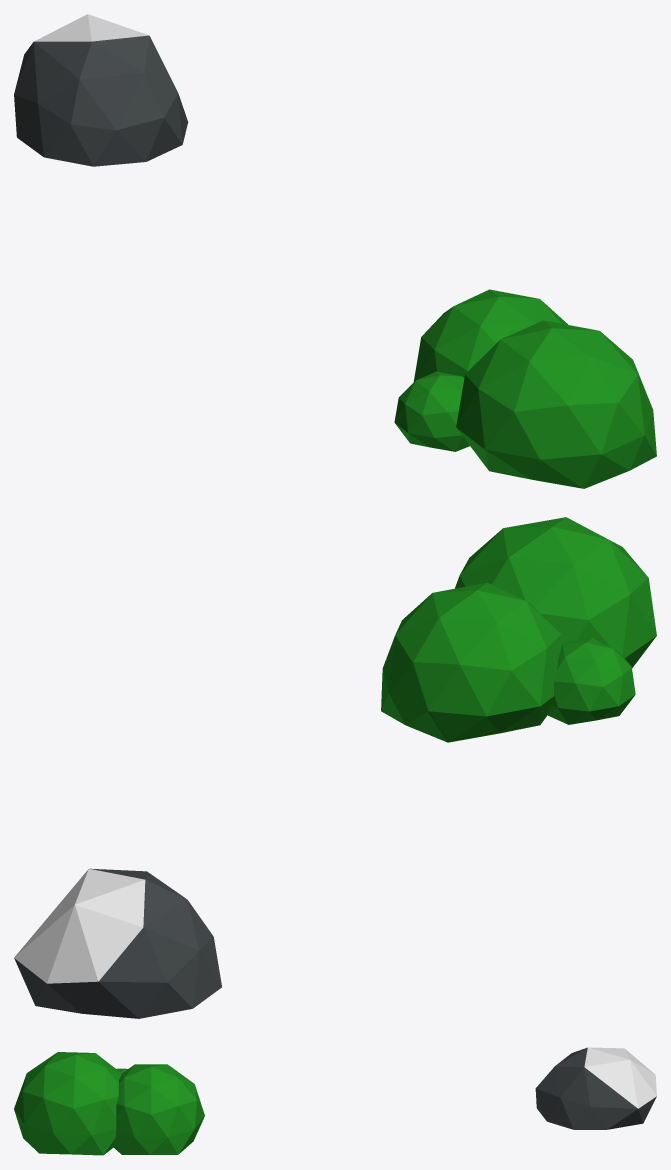
Rendered from bushrock.fbx.
3 renders of one model, top to bottom at view 1: azimuth 30°, elevation 25°; view 2: azimuth 150°, elevation 25°; view 3: azimuth 270°, elevation 25°, orthographic. The views are drawn at different scales.
Parts seen in each view (by area): view 1: Icosphere.001, Icosphere; view 2: Icosphere.001, Icosphere; view 3: Icosphere.001, Icosphere.
Boxes of the visible parts, left/top/right/bottom form: Icosphere.001: left=394, top=289, right=656, bottom=488; Icosphere: left=14, top=14, right=188, bottom=166; Icosphere.001: left=381, top=517, right=656, bottom=742; Icosphere: left=14, top=868, right=221, bottom=1018; Icosphere.001: left=14, top=1052, right=204, bottom=1155; Icosphere: left=535, top=1047, right=656, bottom=1129.
Bounding box in the file's own units: 261 × 161 × 1198.
